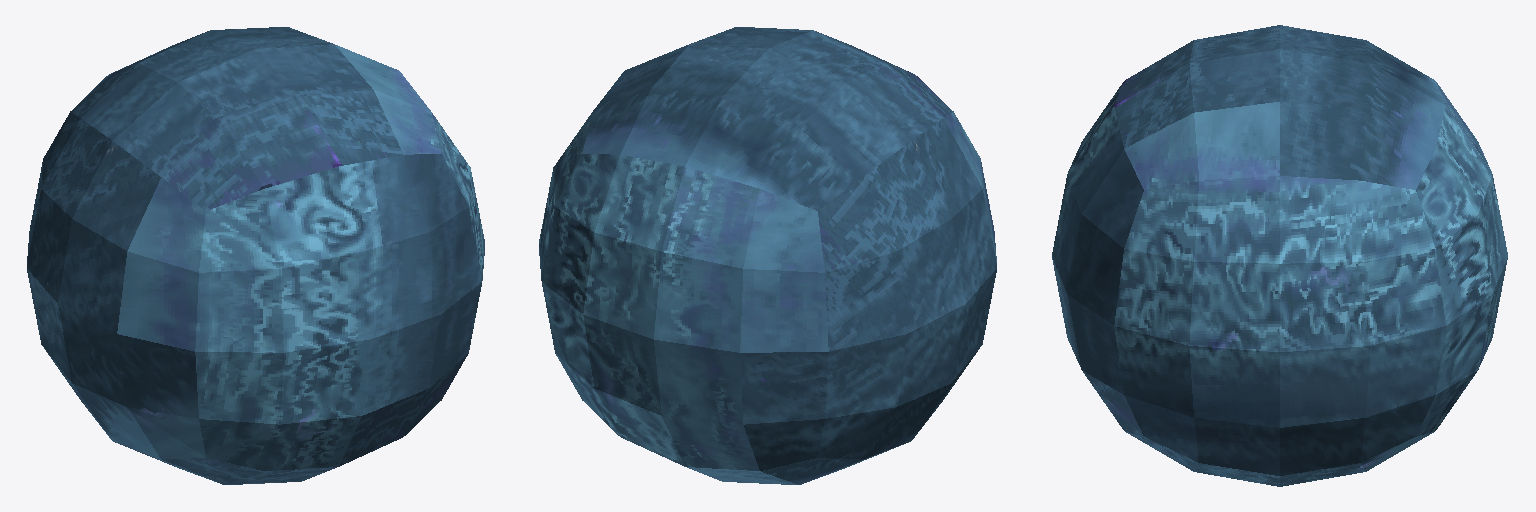
3 views of the same model, side by side, from view 1: azimuth 30°, elevation 25°; view 2: azimuth 150°, elevation 25°; view 3: azimuth 270°, elevation 25° (orthographic).
Parts seen in each view (by area): view 1: Cube; view 2: Cube; view 3: Cube.
Boxes of the visible parts, x1=… form: Cube: x1=27, y1=27, x2=484, y2=484; Cube: x1=539, y1=27, x2=996, y2=484; Cube: x1=1052, y1=25, x2=1507, y2=486.
Size of the model in its own units: 2.72 by 2.72 by 2.72.
1 materials, 1 textured.